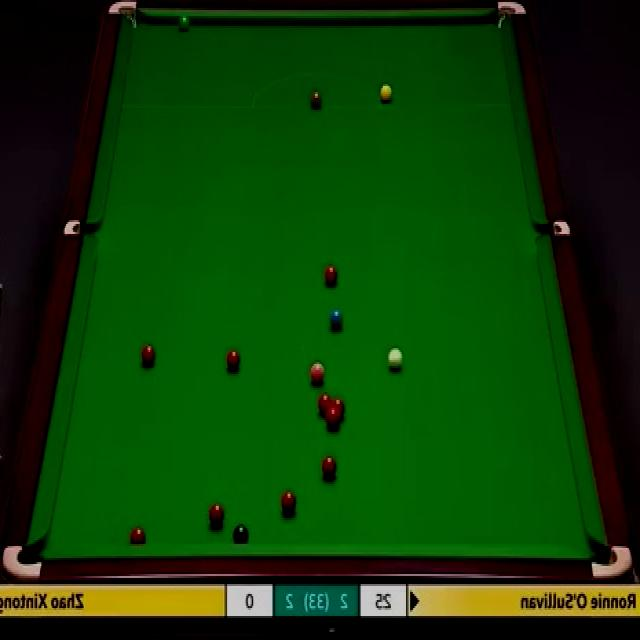black-ball: (232, 523, 248, 545)
blue-ball: (331, 306, 344, 327)
brown-ball: (310, 88, 322, 108)
green-ball: (177, 11, 190, 30)
pink-ball: (308, 359, 326, 386)
red-ball: (320, 451, 337, 480), (225, 346, 242, 373), (280, 489, 296, 517), (208, 504, 225, 530), (142, 344, 156, 369), (129, 525, 148, 543), (332, 398, 346, 422), (318, 393, 331, 418), (324, 411, 340, 430), (324, 263, 337, 286)
white-ball: (388, 345, 403, 373)
yellow-ball: (381, 86, 393, 102)
